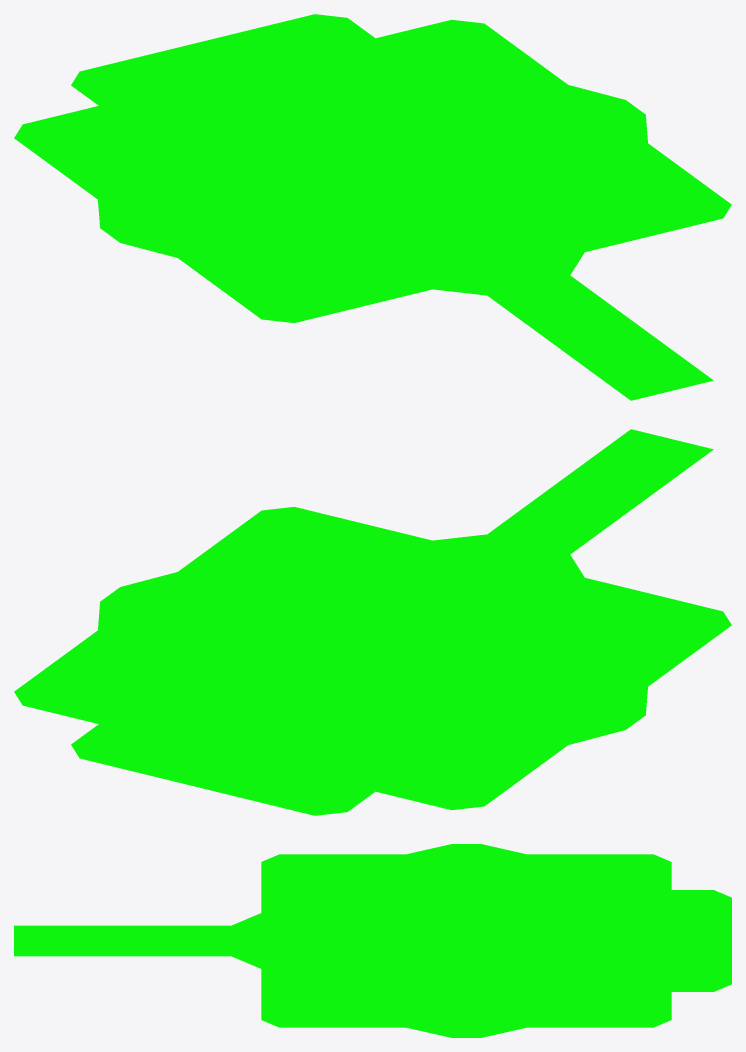
Rendered from s06b_nb2-floor.glb.
3 views of the same model, one above another, from view 1: azimuth 30°, elevation 25°; view 2: azimuth 150°, elevation 25°; view 3: azimuth 270°, elevation 25° (orthographic). The views are drawn at different scales.
Visible parts, largest first — view 1: collision_floor-colonly; view 2: collision_floor-colonly; view 3: collision_floor-colonly.
Boxes of the visible parts, x1,y1,x2,y2 form: collision_floor-colonly: [14, 14, 731, 400]; collision_floor-colonly: [14, 429, 731, 815]; collision_floor-colonly: [14, 844, 731, 1037].
Size of the model in its own units: 38 by 0 by 59.5.
